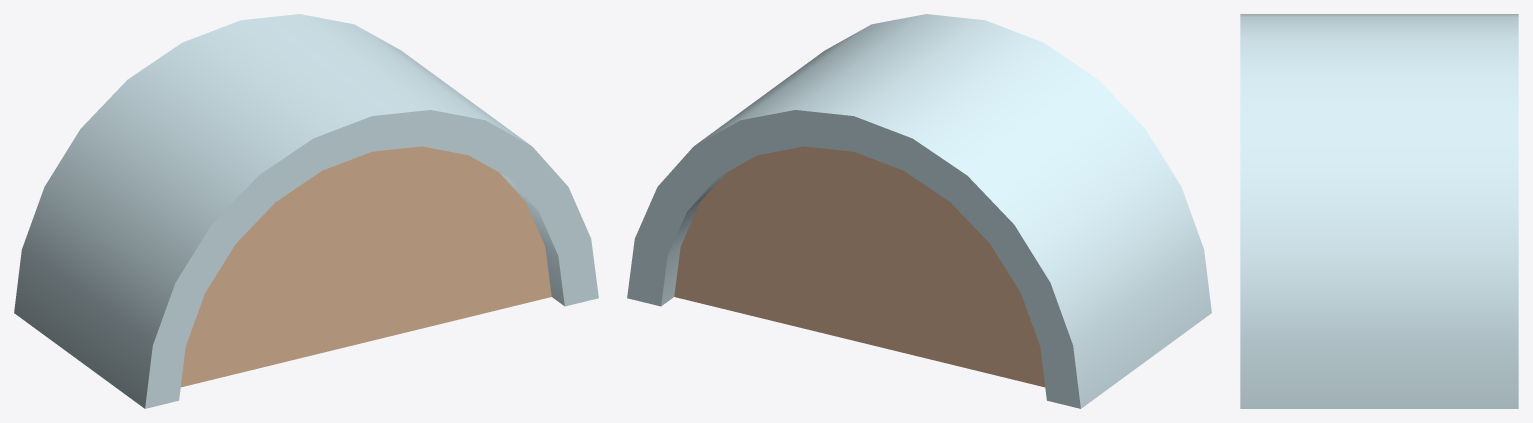
The model's file is blockSnowCurve.glb.
The picture shows the model from 3 angles, left to right: view 1: azimuth 30°, elevation 25°; view 2: azimuth 150°, elevation 25°; view 3: azimuth 270°, elevation 25°; orthographic projection. The views are drawn at different scales.
Visible parts, largest first — view 1: blockSnowCurve; view 2: blockSnowCurve; view 3: blockSnowCurve.
Part boxes in pixels (<box>): blockSnowCurve: <box>14,14,598,408</box>; blockSnowCurve: <box>627,14,1211,408</box>; blockSnowCurve: <box>1240,14,1518,408</box>.
Size of the model in its own units: 2 by 1 by 1.
